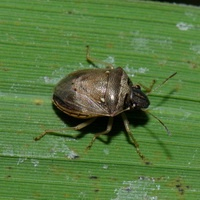insect: (34, 46, 150, 164)
